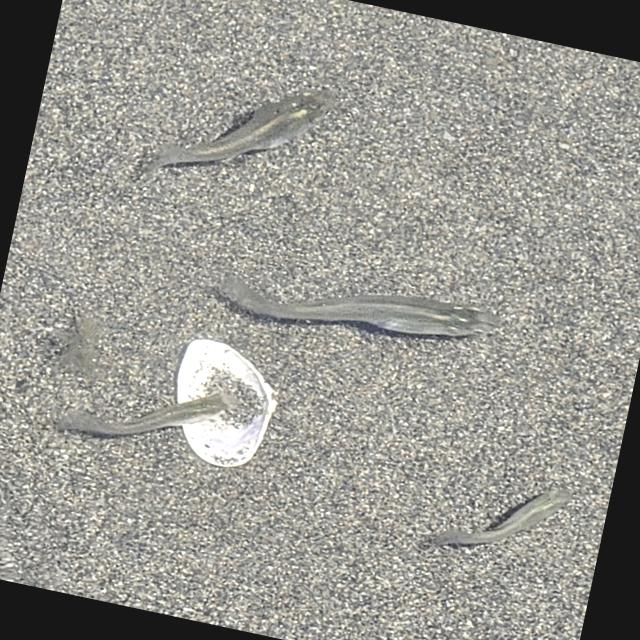Sivrisinek Baligi: (128, 44, 350, 218), (238, 254, 504, 365), (414, 450, 583, 579), (61, 358, 252, 469)
